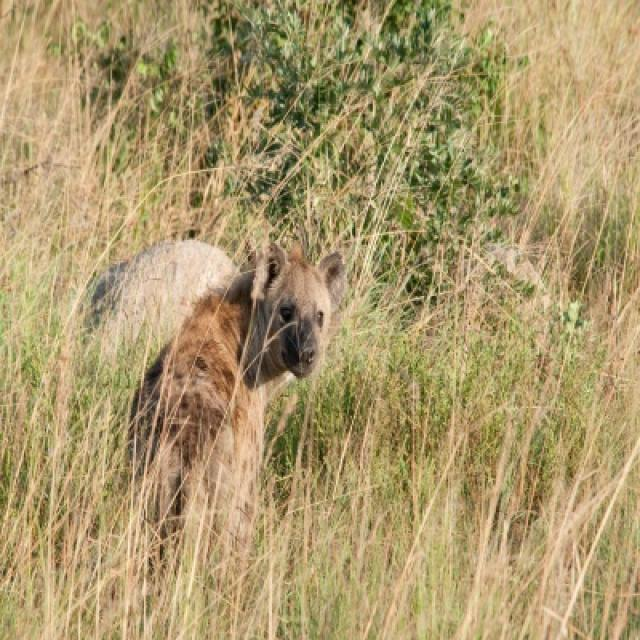hyena: (128, 246, 347, 544)
